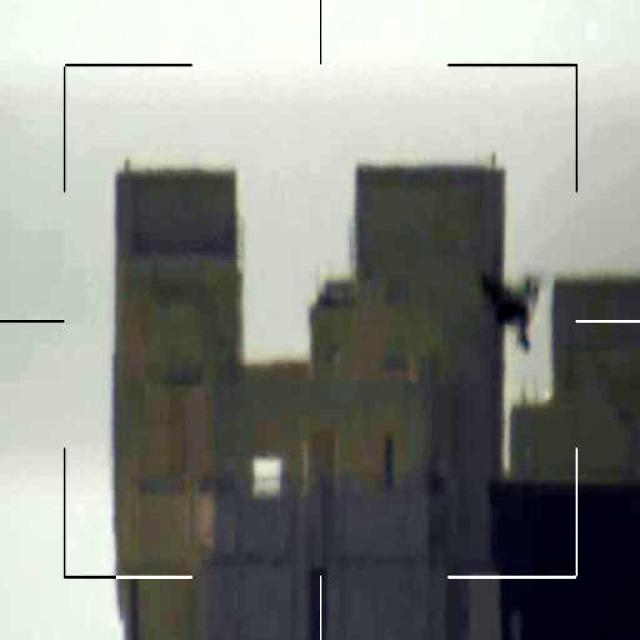bird: (482, 266, 545, 341)
